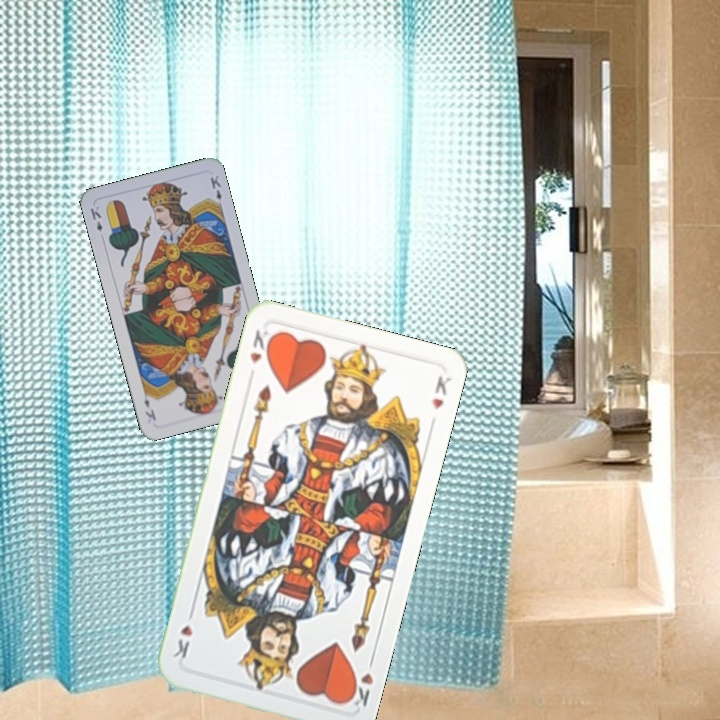EK: (86, 202, 105, 234)
HK: (344, 652, 377, 709), (245, 325, 276, 366)
